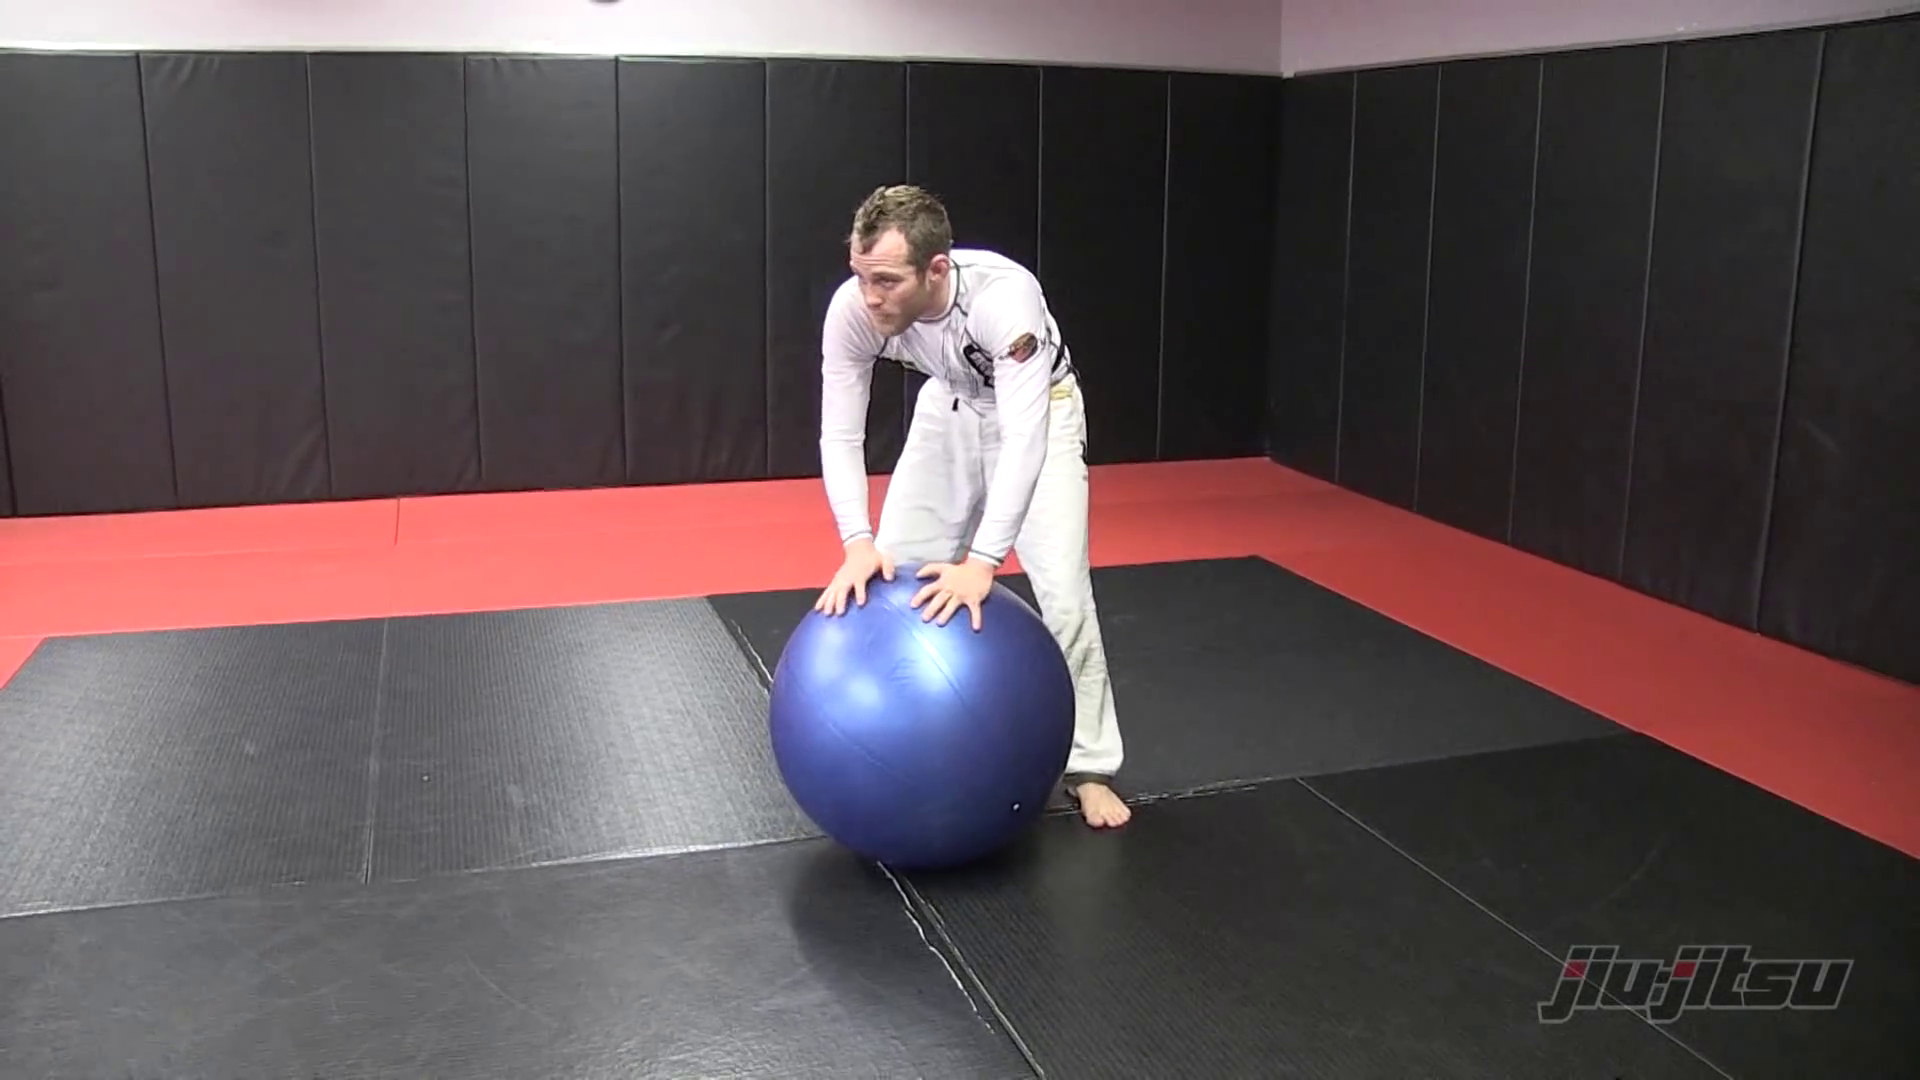yogaball: (735, 562, 1077, 881)
